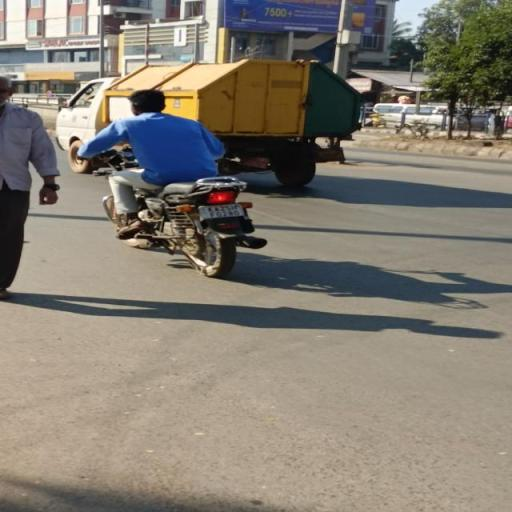bike: (78, 88, 272, 278)
numberplate: (200, 201, 242, 220)
withouthelmet: (131, 90, 165, 114)
